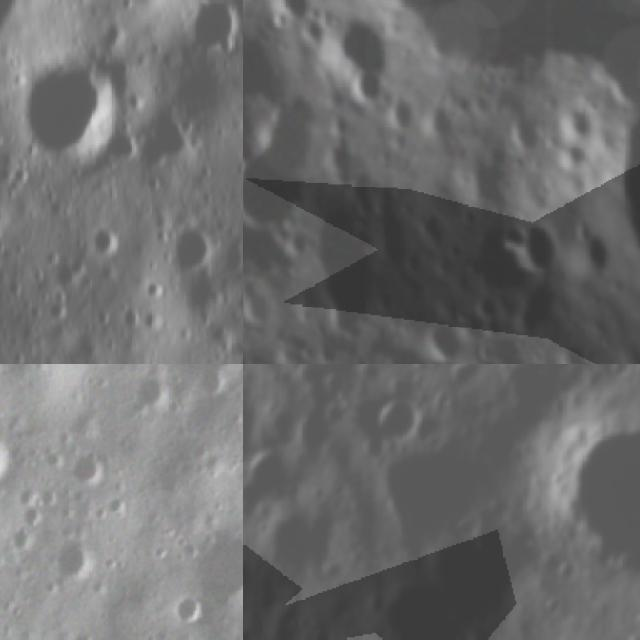crater: (502, 13, 640, 344), (531, 392, 640, 580), (2, 35, 138, 184), (189, 528, 243, 617), (319, 8, 387, 78), (178, 0, 243, 66), (163, 215, 226, 280), (257, 509, 328, 566), (512, 218, 566, 276), (564, 228, 618, 286), (243, 447, 293, 502), (0, 158, 28, 253), (424, 311, 468, 364), (54, 534, 100, 584), (425, 97, 471, 146), (558, 95, 598, 148), (374, 394, 417, 440), (483, 338, 557, 364), (167, 589, 213, 629), (87, 219, 127, 263), (262, 0, 316, 32), (507, 118, 545, 162), (294, 408, 332, 452), (382, 89, 420, 132), (138, 372, 176, 415), (72, 449, 112, 489), (555, 137, 593, 178), (244, 288, 276, 330), (224, 271, 243, 329), (0, 425, 18, 486), (138, 272, 170, 306), (383, 340, 424, 364), (443, 364, 478, 389), (0, 364, 50, 376), (297, 364, 319, 387), (303, 626, 336, 640), (267, 357, 324, 364), (624, 630, 640, 640)
